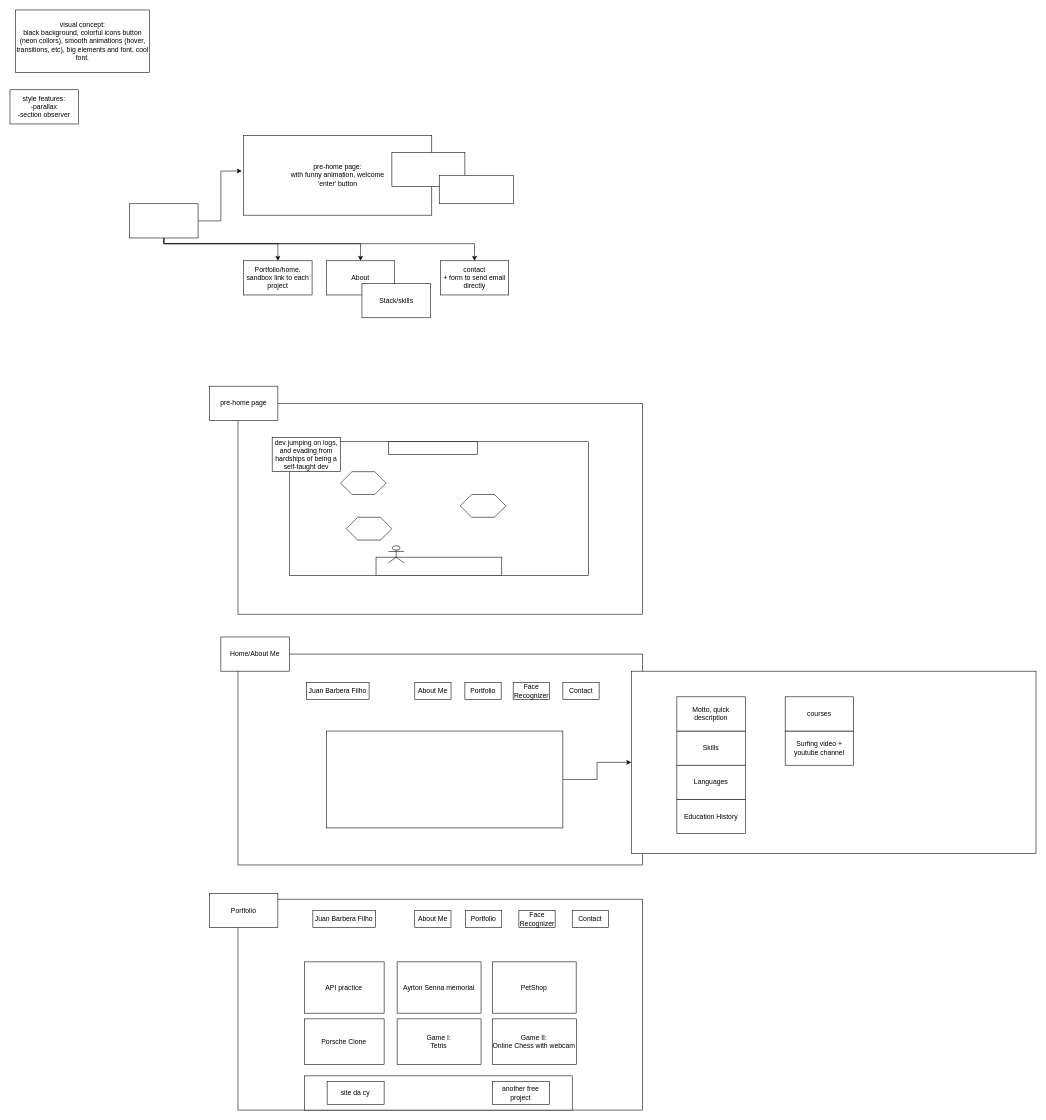
This 1046x1120 diagram has some shape labels left out. The box of each missing label's shape, as (x1, y1, x2, y2) in pixels:
App: (129, 203, 198, 238)
Free Real World Jobs: (304, 1075, 572, 1110)
Game: (391, 152, 465, 187)
information displayed with parallax and section observer: (326, 730, 563, 828)
job: (388, 441, 477, 455)
no previous experience, no CS degree,: (439, 175, 513, 204)
unemployment: (375, 557, 502, 576)
